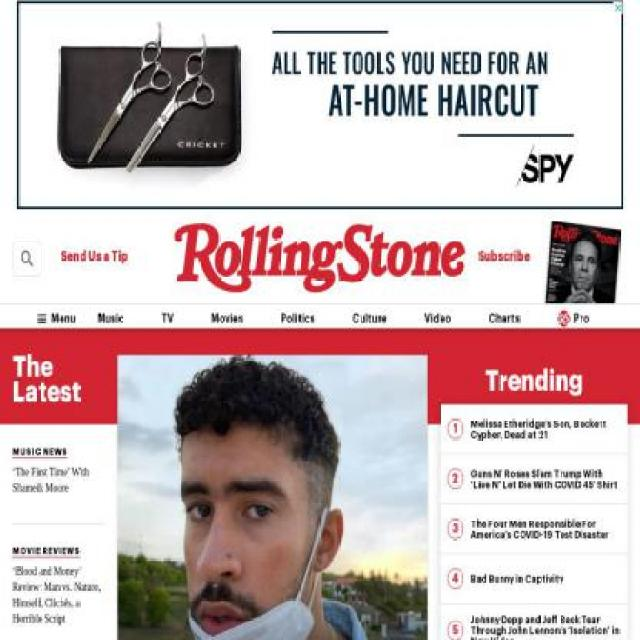button: (116, 355, 429, 639), (166, 328, 434, 366), (440, 404, 628, 453), (440, 454, 628, 503), (440, 504, 628, 553), (440, 554, 628, 603), (12, 545, 105, 633), (440, 604, 628, 639), (542, 218, 621, 296), (12, 446, 105, 502), (12, 328, 110, 366), (48, 247, 141, 267), (541, 305, 605, 332), (466, 247, 542, 267), (109, 334, 165, 360), (29, 306, 82, 331)
field: (13, 238, 42, 277)
